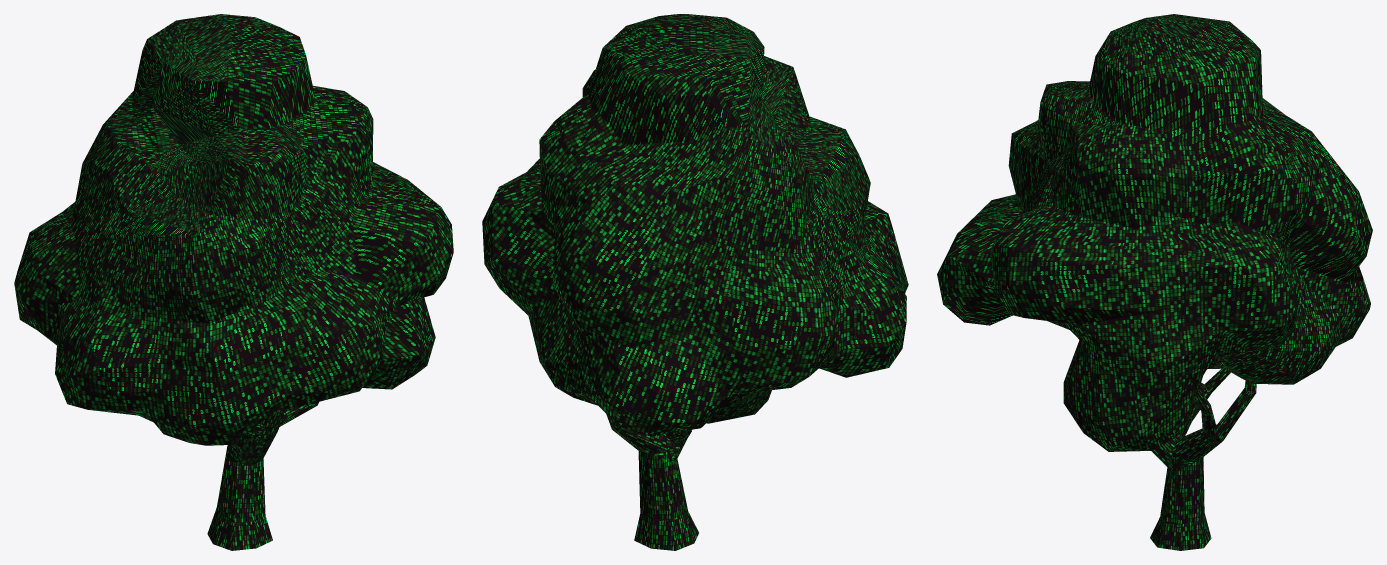
The model's file is Tree_code.fbx.
3 renders of one model, left to right at view 1: azimuth 30°, elevation 25°; view 2: azimuth 150°, elevation 25°; view 3: azimuth 270°, elevation 25°, orthographic. The views are drawn at different scales.
Parts seen in each view (by area): view 1: Tree_code; view 2: Tree_code; view 3: Tree_code.
Boxes of the visible parts, left/top/right/bottom form: Tree_code: left=14, top=14, right=453, bottom=550; Tree_code: left=482, top=14, right=908, bottom=550; Tree_code: left=937, top=14, right=1372, bottom=550.
Bounding box in the file's own units: 5.9 × 7.86 × 6.26.
1 material, 1 textured.
